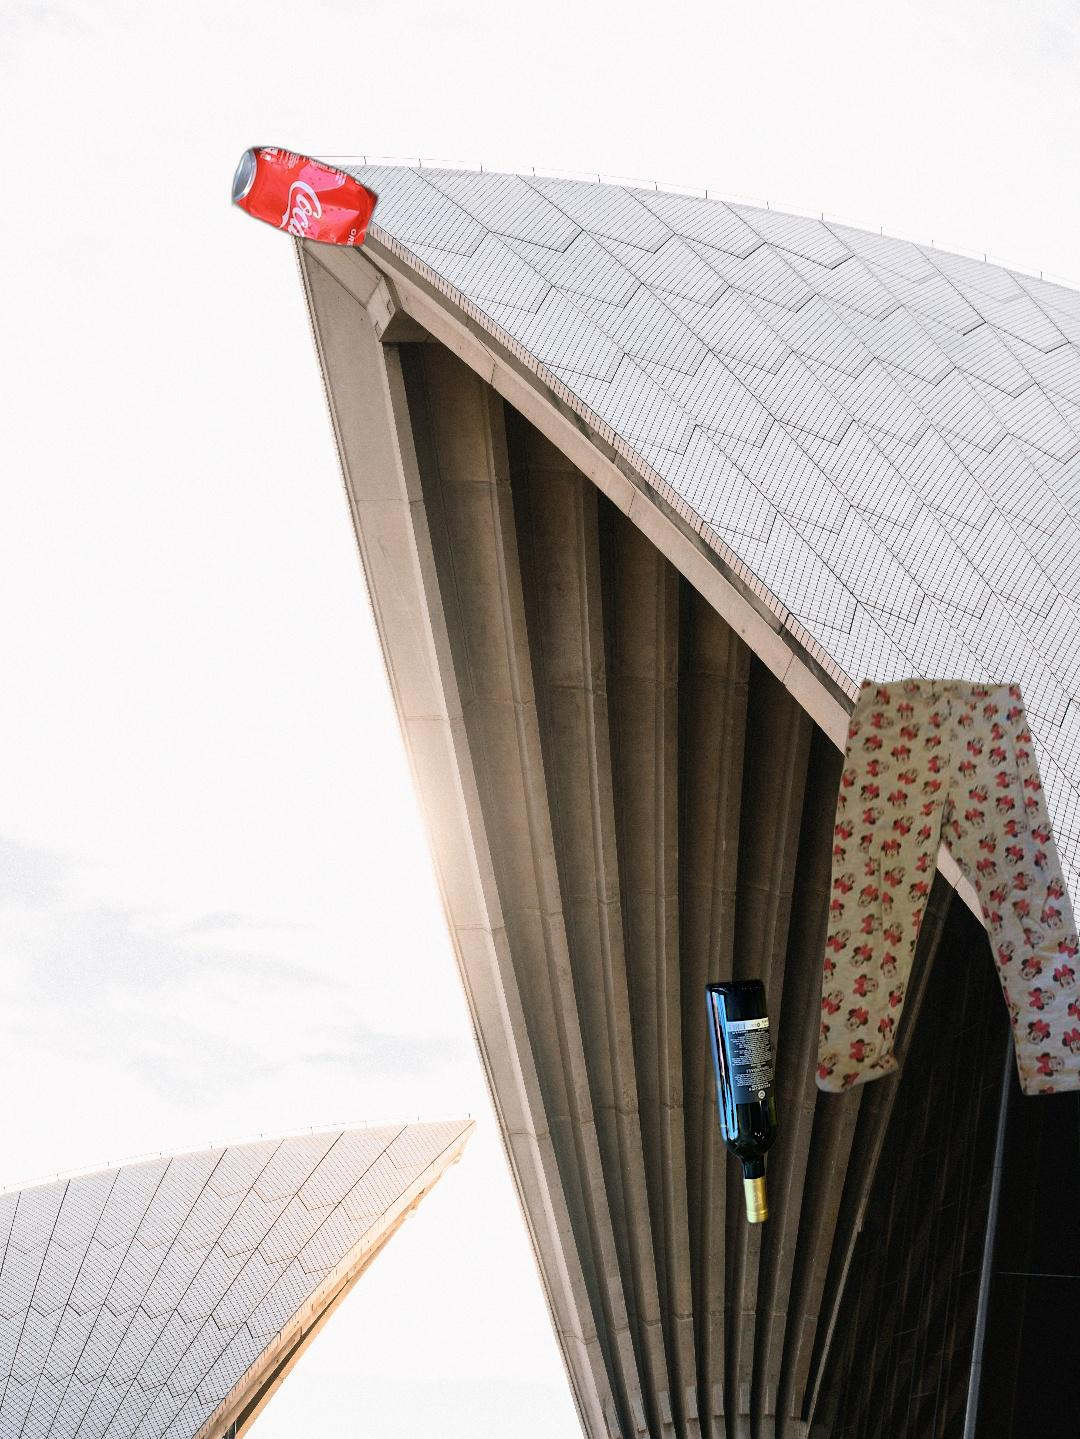clothes: (749, 630, 1080, 1100)
glass: (701, 973, 783, 1230)
metal-cans: (228, 139, 383, 254)
